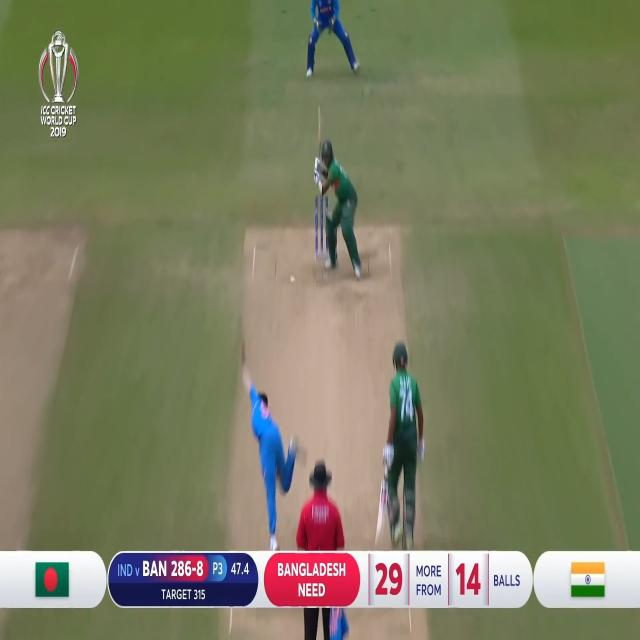ball: (290, 276, 296, 288)
stump: (315, 194, 328, 266)
